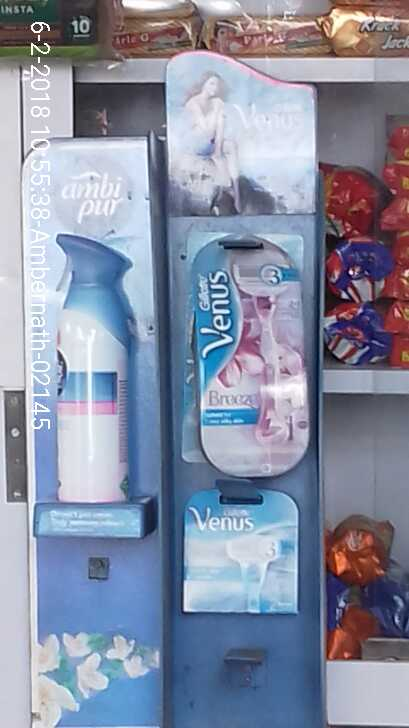beauty: (183, 231, 309, 476), (181, 488, 307, 616)
home: (49, 231, 144, 509)
